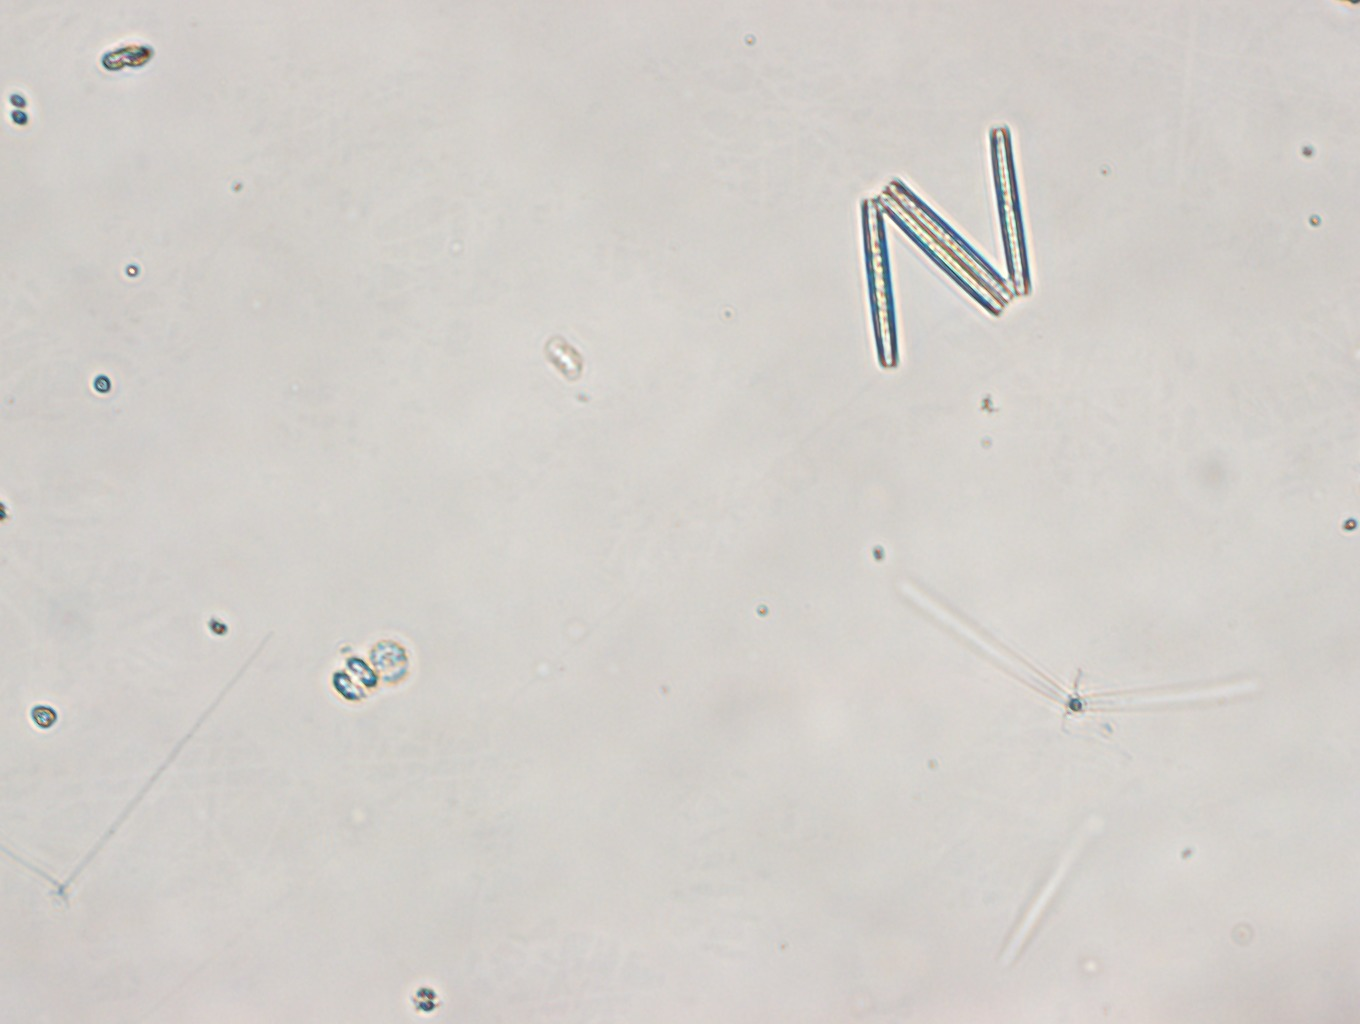thalassionema nitzschioides: (854, 118, 1037, 369)
